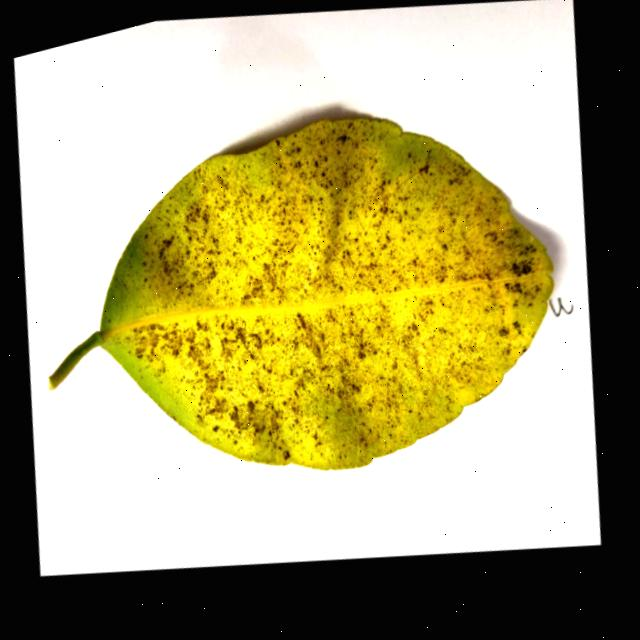melanose: (49, 117, 552, 468)
